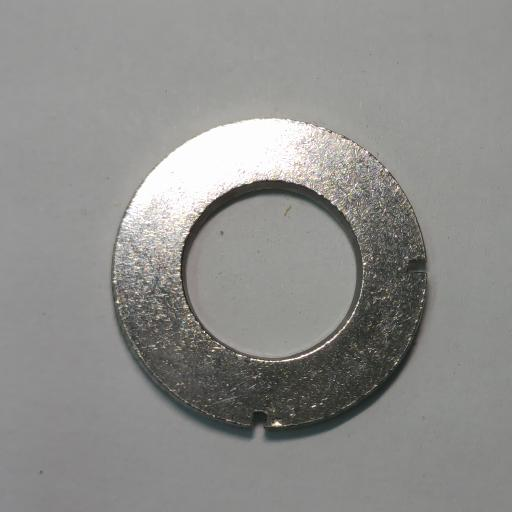burr: (405, 253, 431, 280), (247, 407, 271, 431)
